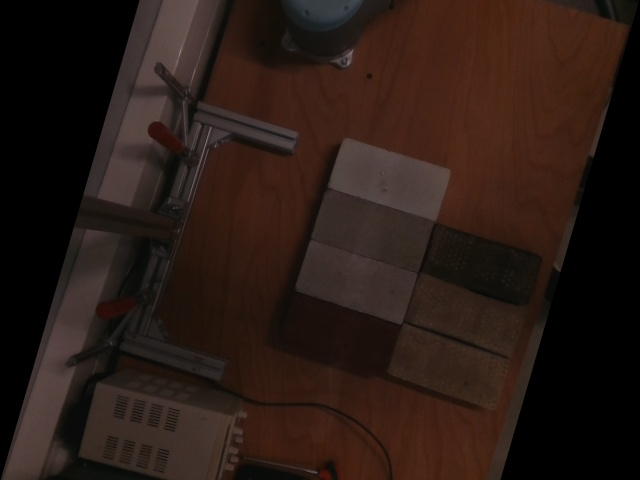brick: (297, 241, 419, 325), (391, 327, 513, 411), (408, 275, 529, 359), (313, 191, 435, 274), (329, 139, 450, 222)
